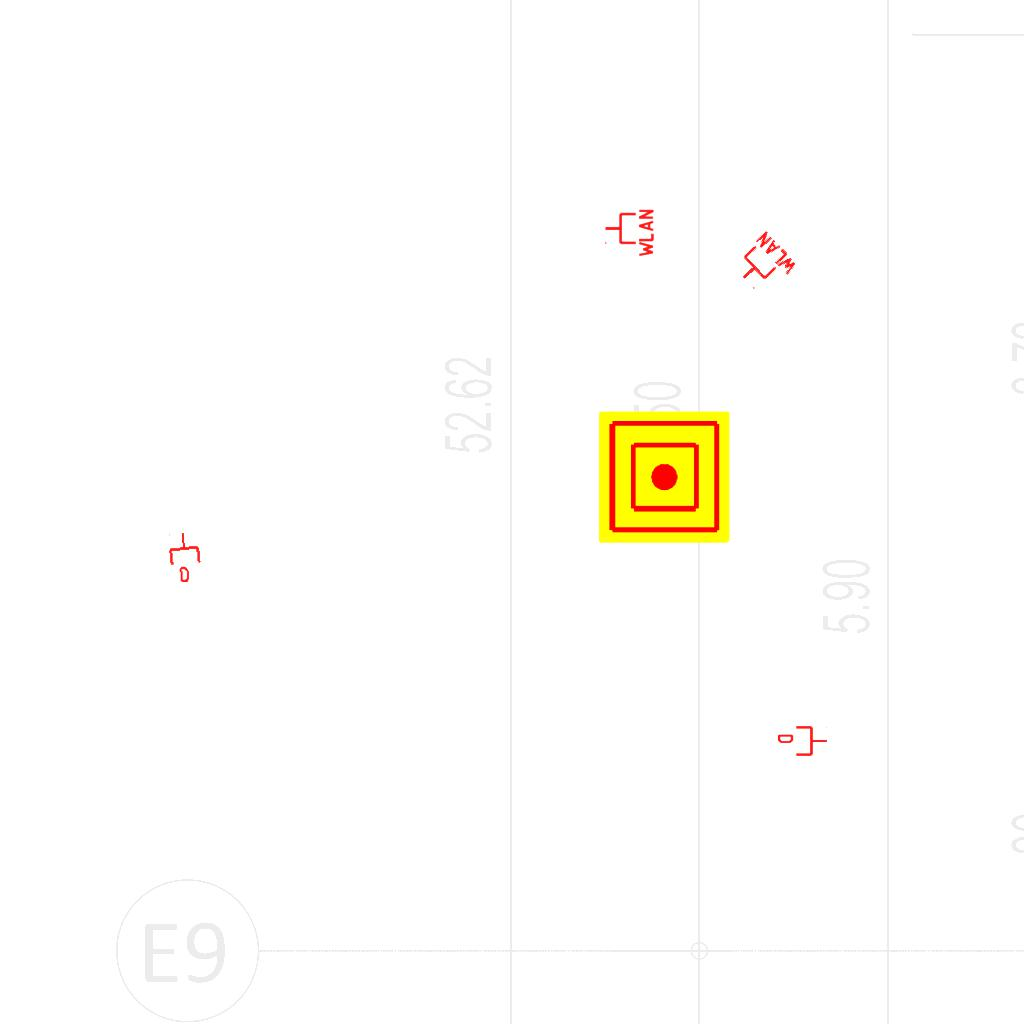Datenanschluss_einfach: (165, 530, 205, 584), (778, 724, 828, 758)
NAM-Nichtautomatischer_Melder: (598, 411, 730, 543)
WLAN: (727, 228, 801, 302), (603, 207, 655, 259)
